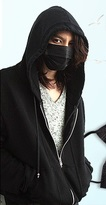face_mask: (45, 25, 74, 69)
